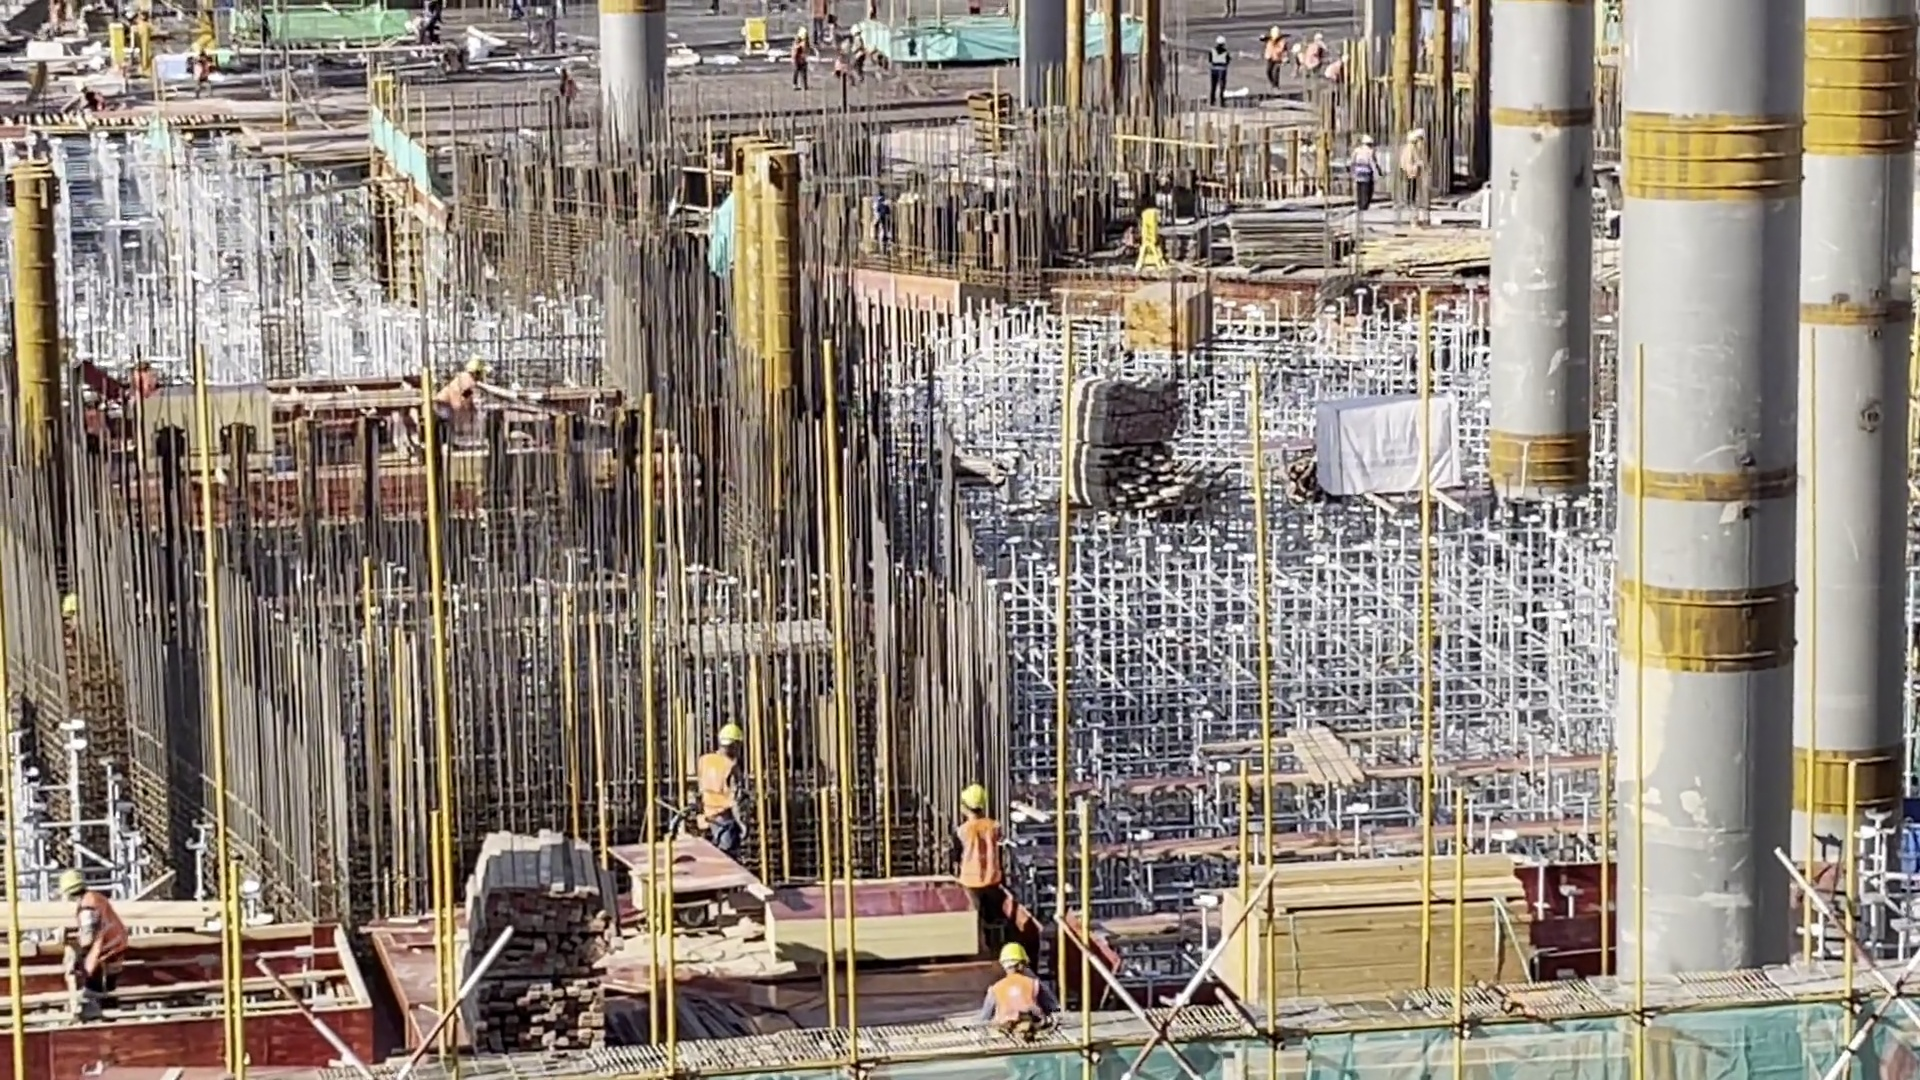helmet: (963, 782, 993, 823), (716, 718, 746, 753), (1003, 943, 1029, 970), (59, 871, 84, 897), (468, 359, 486, 379), (138, 349, 155, 370), (1363, 132, 1382, 147), (1408, 127, 1425, 138), (76, 77, 87, 92), (1215, 33, 1228, 45), (193, 40, 201, 53), (555, 59, 561, 79), (798, 27, 805, 40), (855, 19, 863, 29)
person: (58, 863, 133, 1025), (944, 775, 1004, 900), (993, 945, 1046, 1038), (708, 720, 741, 855), (1404, 128, 1442, 216), (76, 372, 114, 461), (1206, 36, 1246, 114), (449, 355, 484, 436), (131, 350, 168, 415), (190, 43, 225, 102), (73, 76, 123, 118), (783, 31, 818, 91), (1270, 17, 1296, 89), (1353, 137, 1375, 209), (845, 20, 872, 67), (1310, 33, 1337, 72), (415, 1, 440, 45), (558, 58, 575, 119), (833, 31, 848, 77)
vest: (711, 758, 755, 819), (971, 835, 1016, 893), (81, 899, 114, 964), (990, 973, 1041, 1014), (1360, 150, 1379, 186), (1411, 146, 1425, 191), (88, 87, 108, 109), (1271, 37, 1289, 62), (197, 56, 211, 83), (790, 44, 807, 64), (1217, 41, 1229, 71), (1303, 44, 1317, 66), (427, 1, 438, 26), (561, 74, 574, 94), (858, 31, 868, 56), (835, 55, 846, 72)
